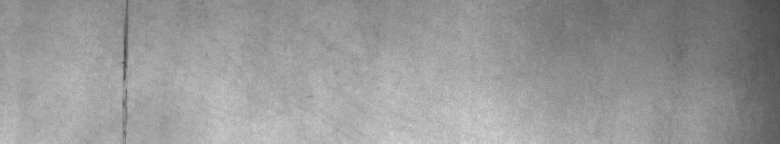hd: (116, 4, 136, 136)
